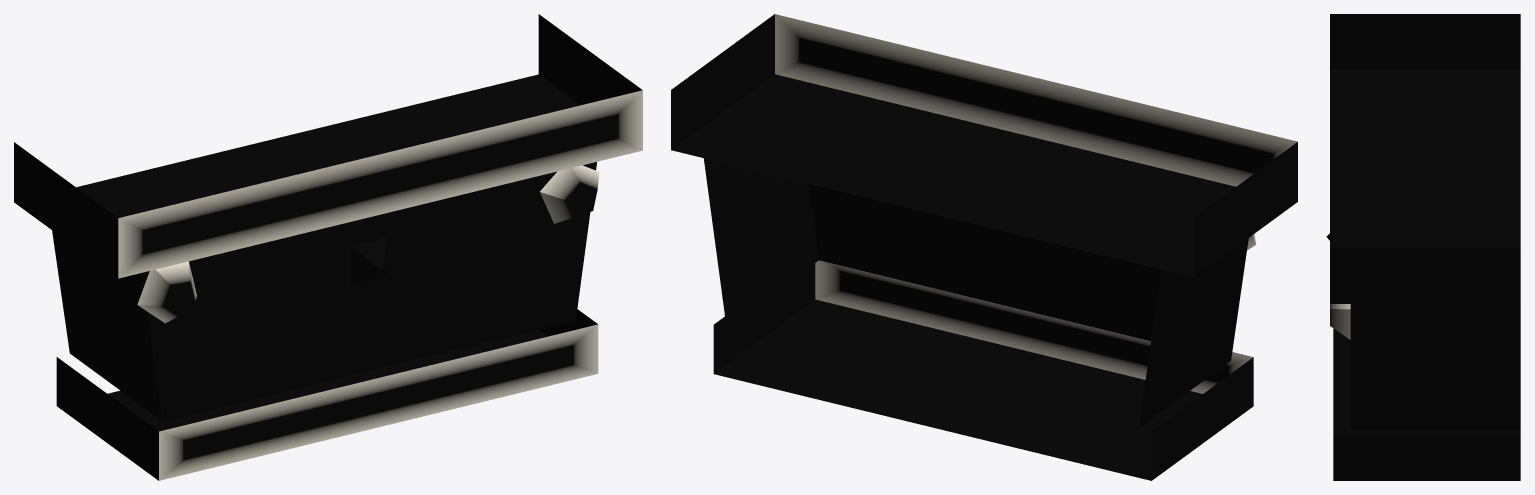
File: capital_32.glb
3 views of the same model, side by side, from view 1: azimuth 30°, elevation 25°; view 2: azimuth 150°, elevation 25°; view 3: azimuth 270°, elevation 25° (orthographic). The views are drawn at different scales.
Parts seen in each view (by area): view 1: capital_32; view 2: capital_32; view 3: capital_32.
Boxes of the visible parts, left/top/right/bottom form: capital_32: left=14, top=14, right=642, bottom=480; capital_32: left=671, top=14, right=1297, bottom=480; capital_32: left=1326, top=14, right=1520, bottom=480.
Size of the model in its own units: 0.32 by 0.16 by 0.112.
